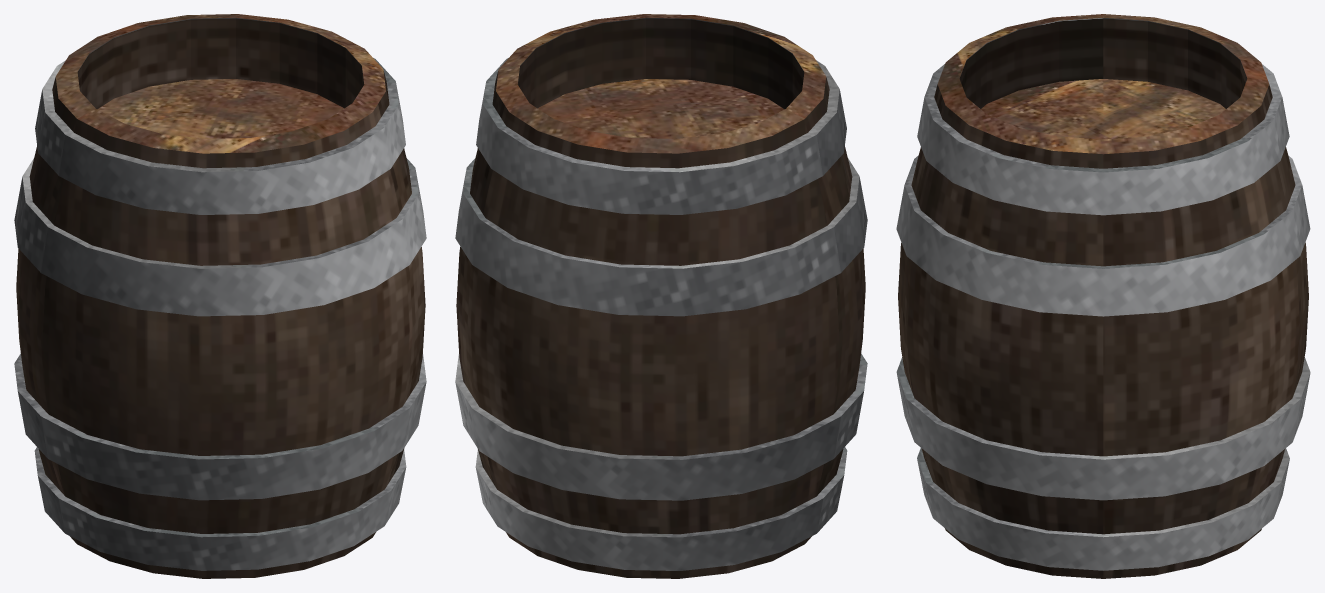
The model's file is Barril metal.fbx.
3 views of the same model, side by side, from view 1: azimuth 30°, elevation 25°; view 2: azimuth 150°, elevation 25°; view 3: azimuth 270°, elevation 25° (orthographic).
Parts seen in each view (by area): view 1: pCylinder16; view 2: pCylinder16; view 3: pCylinder16.
Boxes of the visible parts, bbox=[...] form: pCylinder16: bbox=[14, 14, 426, 578]; pCylinder16: bbox=[455, 14, 867, 578]; pCylinder16: bbox=[896, 14, 1310, 578].
Bounding box in the file's own units: 10.48 × 12.02 × 10.49.
